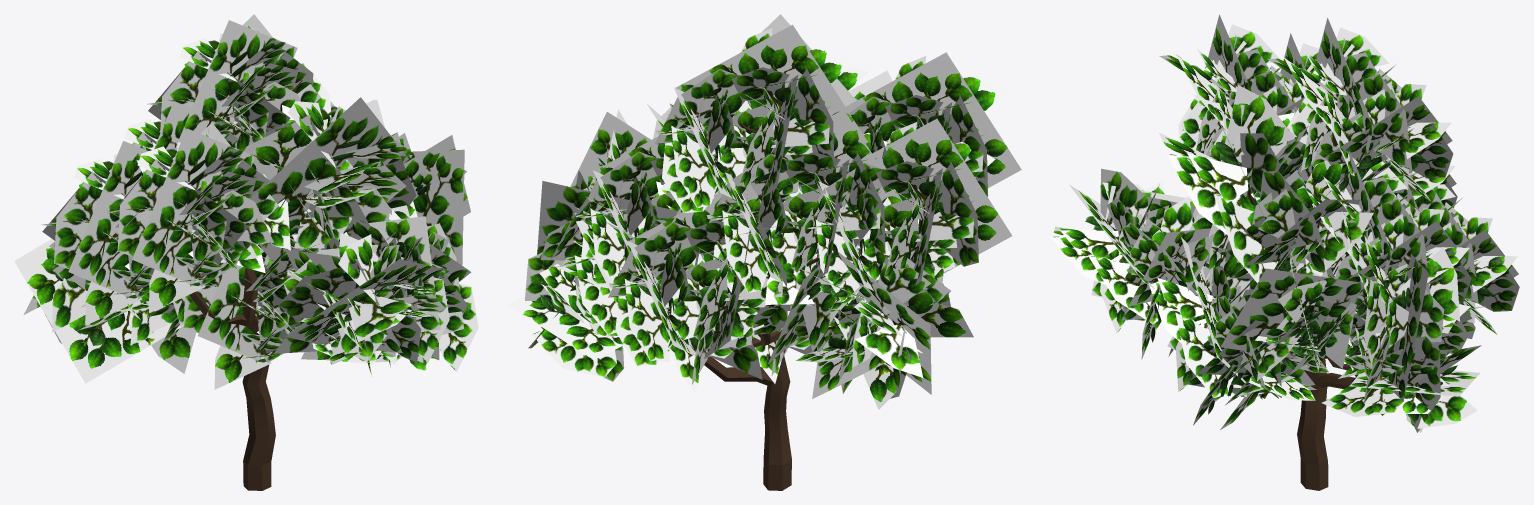
Rendered from Small_Tree.fbx.
3 views of the same model, side by side, from view 1: azimuth 30°, elevation 25°; view 2: azimuth 150°, elevation 25°; view 3: azimuth 270°, elevation 25° (orthographic). The views are drawn at different scales.
Parts seen in each view (by area): view 1: Small_Leaves, Small_Tree; view 2: Small_Leaves, Small_Tree; view 3: Small_Leaves, Small_Tree.
Part boxes in pixels (x1=…): Small_Leaves: x1=14, y1=14, x2=478, y2=389; Small_Tree: x1=189, y1=80, x2=302, y2=490; Small_Leaves: x1=507, y1=14, x2=1021, y2=409; Small_Tree: x1=704, y1=122, x2=839, y2=490; Small_Leaves: x1=1050, y1=14, x2=1519, y2=432; Small_Tree: x1=1247, y1=107, x2=1367, y2=490.
Size of the model in its own units: 0.1708 by 0.179 by 0.1662.
